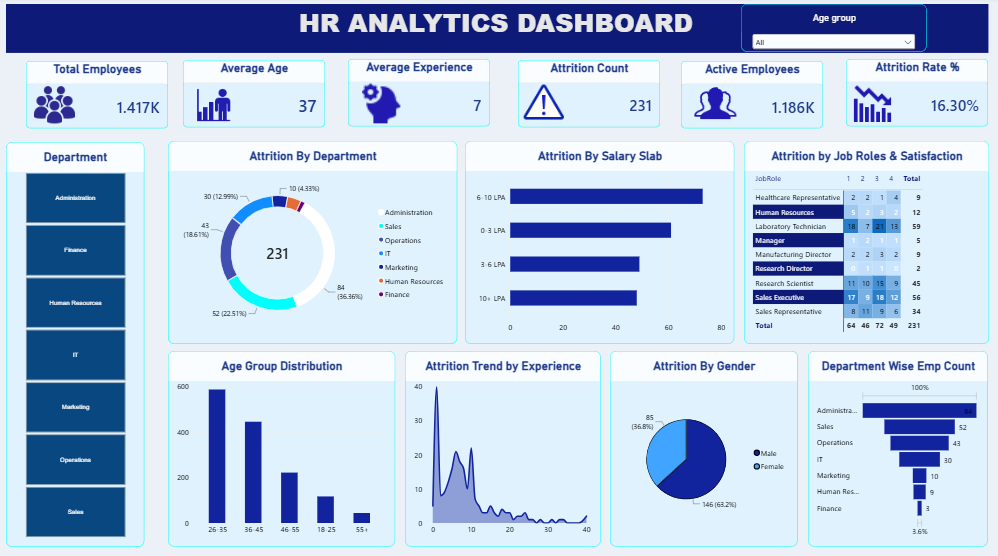

The dashboard page shown, as its layout file describes it:
{"tool":"powerbi","page":{"name":"Page 1","canvas":[1920,1080],"ordinal":0},"visuals":[{"type":"textbox","box":[27.5,12.5,1867.5,92.5],"z":0},{"type":"donutChart","title":"Attrition By Department","fields":{"Category":["HR_Analytics-4.Department"],"Y":["Sum(HR_Analytics-4.Attrition_Column)"]},"box":[334,274,550,386],"z":1000},{"type":"cardVisual","title":"Active Employees","fields":{"Data":["CountNonNull(HR_Analytics-4.EmployeeCount)"]},"box":[1310.1,121.7,270,127.5],"z":2000},{"type":"cardVisual","title":"Average Age","fields":{"Data":["Avg(HR_Analytics-4.Age)"]},"box":[362.5,120,270,127.5],"z":3000},{"type":"clusteredBarChart","title":"Attrition By Salary Slab","fields":{"Category":["HR_Analytics-4.SalarySlab"],"Y":["Sum(HR_Analytics-4.Attrition_Column)"]},"box":[900,274,512,386],"z":4000},{"type":"pivotTable","title":"Attrition by Job Roles & Satisfaction","fields":{"Columns":["HR_Analytics-4.JobSatisfaction"],"Rows":["HR_Analytics-4.JobRole"],"Values":["Sum(HR_Analytics-4.Attrition_Column)"]},"box":[1430,274,466,386],"z":5000},{"type":"columnChart","title":"Age Group Distribution","fields":{"Category":["HR_Analytics-4.AgeGroup"],"Y":["Sum(HR_Analytics-4.EmployeeCount)"]},"box":[333.8,673.9,431.6,372],"z":6000},{"type":"areaChart","title":"Attrition Trend by Experience","fields":{"Category":["HR_Analytics-4.TotalExperience(Years)"],"Y":["Sum(HR_Analytics-4.Attrition_Column)"]},"box":[784.5,673.9,372,372],"z":7000},{"type":"funnel","title":"Department Wise Emp Count","fields":{"Category":["HR_Analytics-4.Department"],"Y":["Sum(HR_Analytics-4.Attrition_Column)"]},"box":[1552,673.9,342.3,372],"z":8000},{"type":"pieChart","title":"Attrition By Gender","fields":{"Category":["HR_Analytics-4.Gender"],"Y":["Sum(HR_Analytics-4.Attrition_Column)"]},"box":[1175.7,673.9,357.2,372],"z":9000},{"type":"cardVisual","title":"Average Experience","fields":{"Data":["Avg(HR_Analytics-4.YearsatCompany)"]},"box":[676.9,117.9,270,127.5],"z":10000},{"type":"cardVisual","title":"Attrition Count","fields":{"Data":["Sum(HR_Analytics-4.Attrition_Column)"]},"box":[1000.1,119.8,270,127.5],"z":11000},{"type":"cardVisual","title":"Attrition Rate %","fields":{"Data":["HR_Analytics-4.attrition_Rate_%"]},"box":[1624,118,270,127.5],"z":12000},{"type":"cardVisual","title":"Total Employees","fields":{"Data":["CountNonNull(HR_Analytics-4.EmpID)"]},"box":[64.6,121.7,270,127.5],"z":13000},{"type":"image","box":[79.9,163.5,77.5,82.5],"z":14000},{"type":"image","box":[1321.5,163.5,108.3,80.3],"z":15000},{"type":"image","box":[385.2,164.5,70.2,80.3],"z":16000},{"type":"image","box":[1626,160,97.5,85],"z":17000},{"type":"image","box":[1000,160,97.5,80],"z":18000},{"type":"image","box":[703.7,163.7,80.8,82.9],"z":19000},{"type":"slicer","title":"Department","fields":{"Values":["HR_Analytics-4.Department"]},"box":[27.5,275,262.5,770],"z":20000},{"type":"slicer","title":"Age group","fields":{"Values":["HR_Analytics-4.AgeGroup"]},"box":[1424.4,12.8,352.9,91.4],"z":21000}]}

Visuals, with their boxes in screenshot pixels (x1, y1, x2, y2), scaled from the page's 1920x1080 canvas onto the 998x556 screenshot:
textbox: [14, 6, 985, 54]
"Attrition By Department" donutChart: [174, 141, 459, 340]
"Active Employees" cardVisual: [681, 63, 821, 128]
"Average Age" cardVisual: [188, 62, 329, 127]
"Attrition By Salary Slab" clusteredBarChart: [468, 141, 734, 340]
"Attrition by Job Roles & Satisfaction" pivotTable: [743, 141, 986, 340]
"Age Group Distribution" columnChart: [174, 347, 398, 538]
"Attrition Trend by Experience" areaChart: [408, 347, 601, 538]
"Department Wise Emp Count" funnel: [807, 347, 985, 538]
"Attrition By Gender" pieChart: [611, 347, 797, 538]
"Average Experience" cardVisual: [352, 61, 492, 126]
"Attrition Count" cardVisual: [520, 62, 660, 127]
"Attrition Rate %" cardVisual: [844, 61, 984, 126]
"Total Employees" cardVisual: [34, 63, 174, 128]
image: [42, 84, 82, 127]
image: [687, 84, 743, 126]
image: [200, 85, 237, 126]
image: [845, 82, 896, 126]
image: [520, 82, 570, 124]
image: [366, 84, 408, 127]
"Department" slicer: [14, 142, 151, 538]
"Age group" slicer: [740, 7, 924, 54]
